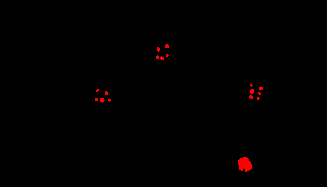Target: (238, 157, 252, 172), (100, 98, 105, 103), (250, 89, 254, 94), (165, 44, 169, 48), (160, 56, 164, 60), (249, 95, 253, 99), (157, 47, 160, 52), (156, 55, 159, 59), (259, 87, 263, 90), (105, 91, 108, 95), (166, 54, 169, 57), (250, 84, 253, 87), (96, 89, 99, 92), (258, 92, 261, 95), (257, 97, 260, 100), (95, 98, 98, 101), (108, 99, 111, 102)
